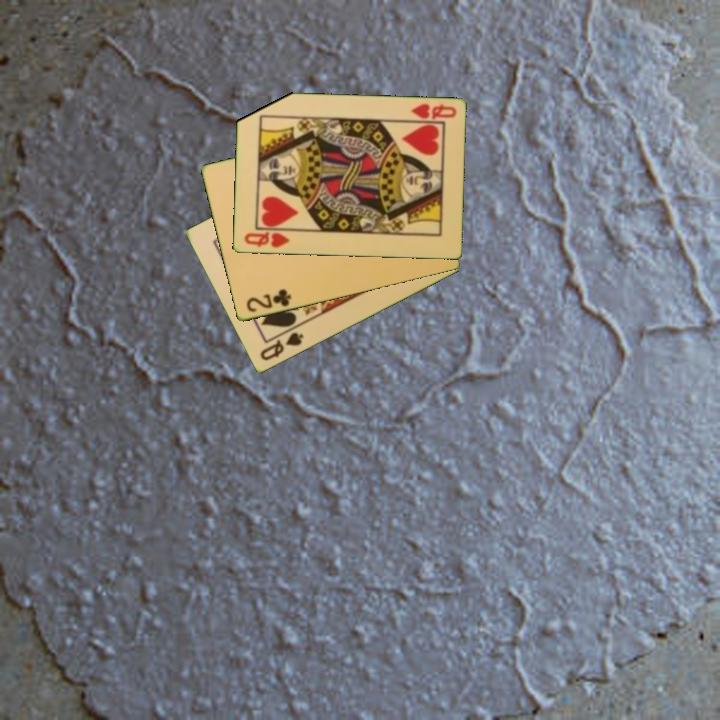2c: (243, 286, 294, 315)
Qh: (407, 100, 459, 123), (241, 229, 292, 251)
Qs: (257, 329, 306, 364)
